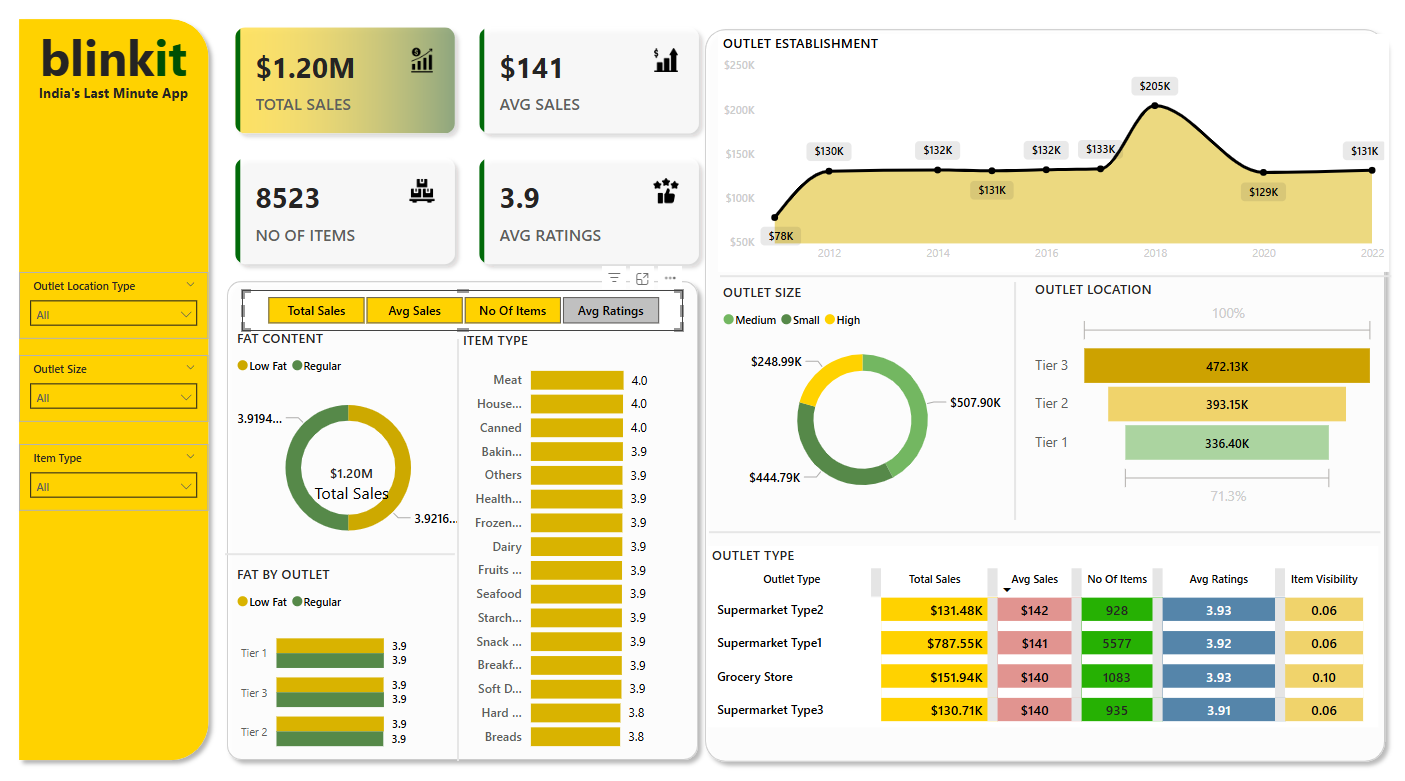

The dashboard page shown, as its layout file describes it:
{"tool":"powerbi","page":{"name":"Page 1","canvas":[1400,800],"ordinal":0},"visuals":[{"type":"shape","box":[22.3,24.5,205.3,750],"z":0},{"type":"textbox","box":[31.6,32.6,186.7,75.1],"z":1000},{"type":"textbox","box":[31.6,92.8,186.7,28.6],"z":2000},{"type":"cardVisual","fields":{"Data":["BlinkIT Grocery Data.Total Sales","BlinkIT Grocery Data.Average Sales","BlinkIT Grocery Data.Number Of Items","BlinkIT Grocery Data.Average Ratings"]},"box":[228.1,24.7,493.8,269.6],"z":3000},{"type":"shape","box":[228.1,283.5,483,490.9],"z":4000},{"type":"slicer","fields":{"Values":["Metrics.Metrics"]},"box":[251.9,301.2,435.6,40.5],"z":5000},{"type":"donutChart","title":"FAT CONTENT","fields":{"Y":["BlinkIT Grocery Data.Total Sales"],"Category":["BlinkIT Grocery Data.Item Fat Content"]},"box":[241.5,339.6,230.2,230.2],"z":6000},{"type":"cardVisual","fields":{"Data":["BlinkIT Grocery Data.Total Sales"]},"box":[305.2,454.3,110.6,75.1],"z":7000},{"type":"clusteredBarChart","title":"FAT BY OUTLET","fields":{"Y":["BlinkIT Grocery Data.Total Sales"],"Category":["BlinkIT Grocery Data.Outlet Location Type"],"Series":["BlinkIT Grocery Data.Item Fat Content"]},"box":[241.5,572.6,220.8,200.9],"z":8000},{"type":"shape","box":[234.9,549.1,227.4,26.4],"z":9000},{"type":"shape","box":[455.3,349.6,19.8,416.8],"z":10000},{"type":"barChart","title":"ITEM TYPE","fields":{"Y":["BlinkIT Grocery Data.Total Sales"],"Category":["BlinkIT Grocery Data.Item Type"]},"box":[465.2,341.7,235.1,424.7],"z":11000},{"type":"shape","box":[700,34.9,689.6,741.5],"z":12000},{"type":"lineChart","title":"OUTLET ESTABLISHMENT","fields":{"Category":["BlinkIT Grocery Data.Outlet Establishment Year"],"Y":["BlinkIT Grocery Data.Total Sales"]},"box":[721.7,48.1,663.2,234.9],"z":13000},{"type":"shape","box":[723.6,274.5,663.2,26.4],"z":14000},{"type":"donutChart","title":"OUTLET SIZE","fields":{"Y":["BlinkIT Grocery Data.Total Sales"],"Category":["BlinkIT Grocery Data.Outlet Size"]},"box":[722.1,294.3,285.9,226],"z":15000},{"type":"shape","box":[997.4,293.2,35.7,235.4],"z":16000},{"type":"funnel","title":"OUTLET LOCATION","fields":{"Category":["BlinkIT Grocery Data.Outlet Location Type"],"Y":["Sum(BlinkIT Grocery Data.Sales)"]},"box":[1030,291.1,345.8,228.1],"z":17000},{"type":"shape","box":[712.6,527.6,663.2,26.3],"z":18000},{"type":"pivotTable","title":"OUTLET TYPE","fields":{"Rows":["BlinkIT Grocery Data.Outlet Type"],"Values":["BlinkIT Grocery Data.Total Sales","BlinkIT Grocery Data.Avg Sales","BlinkIT Grocery Data.No Of Items","BlinkIT Grocery Data.Avg Ratings","Avg(BlinkIT Grocery Data.Item Visibility)"]},"box":[711.6,553.9,663.2,178.7],"z":19000},{"type":"slicer","fields":{"Values":["BlinkIT Grocery Data.Outlet Location Type"]},"box":[31.5,283.8,187.1,66.2],"z":19001},{"type":"slicer","fields":{"Values":["BlinkIT Grocery Data.Outlet Size"]},"box":[31.5,365.8,187.1,66.2],"z":19002},{"type":"slicer","fields":{"Values":["BlinkIT Grocery Data.Item Type"]},"box":[31.5,453,187.1,66.2],"z":19003}]}

Visuals, with their boxes in screenshot pixels (x1, y1, x2, y2), scaled from the page's 1400x800 canvas onto the 1405x781 screenshot:
shape: box(22, 24, 228, 756)
textbox: box(32, 32, 219, 105)
textbox: box(32, 91, 219, 119)
cardVisual - BlinkIT Grocery Data.Total Sales x BlinkIT Grocery Data.Average Sales: box(229, 24, 724, 287)
shape: box(229, 277, 714, 756)
slicer - Metrics.Metrics: box(253, 294, 690, 334)
"FAT CONTENT" donutChart: box(242, 332, 473, 556)
cardVisual - BlinkIT Grocery Data.Total Sales: box(306, 444, 417, 517)
"FAT BY OUTLET" clusteredBarChart: box(242, 559, 464, 755)
shape: box(236, 536, 464, 562)
shape: box(457, 341, 477, 748)
"ITEM TYPE" barChart: box(467, 334, 703, 748)
shape: box(702, 34, 1395, 758)
"OUTLET ESTABLISHMENT" lineChart: box(724, 47, 1390, 276)
shape: box(726, 268, 1392, 294)
"OUTLET SIZE" donutChart: box(725, 287, 1012, 508)
shape: box(1001, 286, 1037, 516)
"OUTLET LOCATION" funnel: box(1034, 284, 1381, 507)
shape: box(715, 515, 1381, 541)
"OUTLET TYPE" pivotTable: box(714, 541, 1380, 715)
slicer - BlinkIT Grocery Data.Outlet Location Type: box(32, 277, 219, 342)
slicer - BlinkIT Grocery Data.Outlet Size: box(32, 357, 219, 422)
slicer - BlinkIT Grocery Data.Item Type: box(32, 442, 219, 507)
